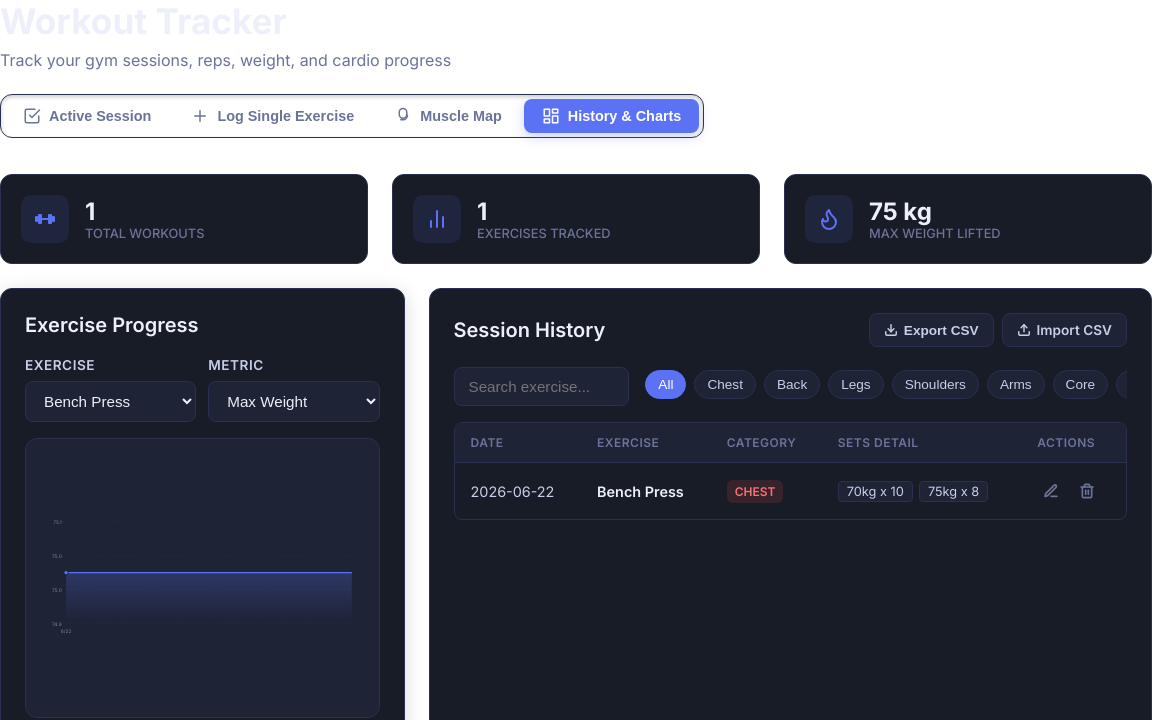
Test: WorkoutPage › supports view mode toggling and showing checklist/timer in active-session mode
Expected: the text "75 kg" is shown, [869,197,932,226]
Expected: the text "Total Workouts" is shown, [85,226,204,241]
Toggle to Active Gym Session mode
Click the button "Active Session" at (87,116), box [5,99,169,133]
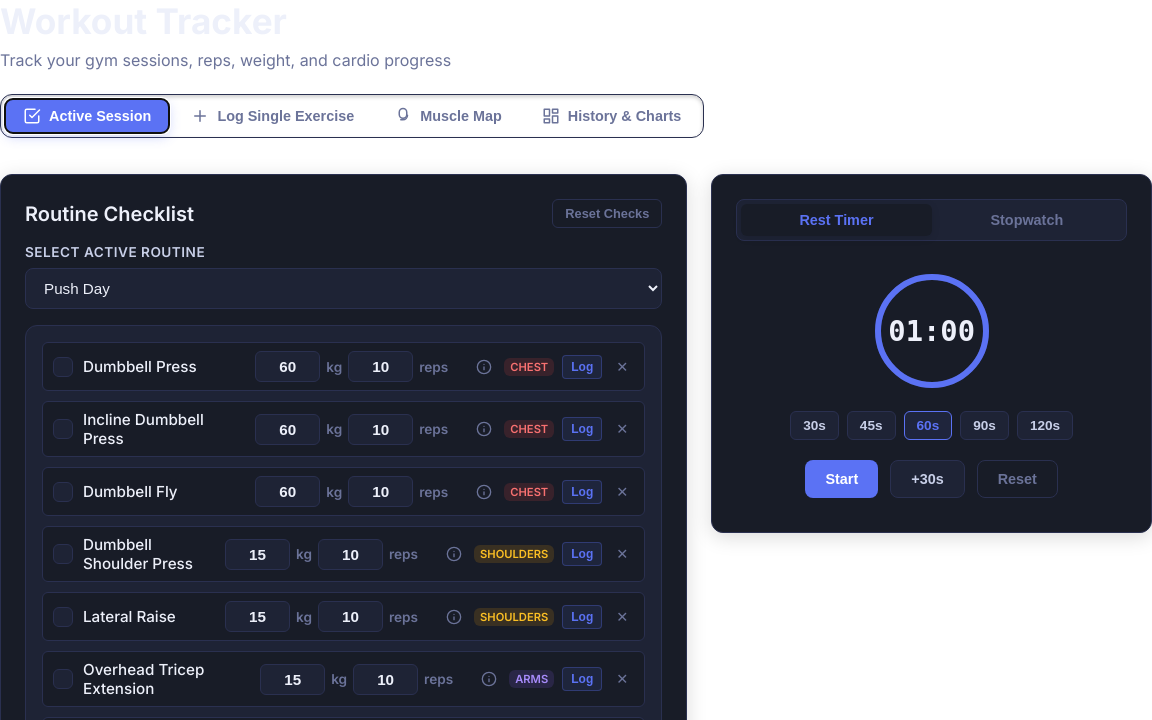
Result: the text "Select Active Routine" is shown at [25,244,205,260]
Result: the button "Reset Checks" is shown at [552,199,662,228]
Result: the text "Total Workouts" is gone
